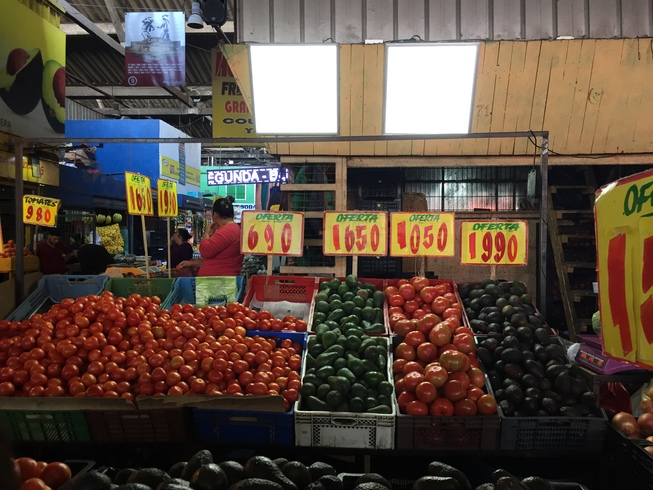precio: (592, 167, 653, 369), (461, 219, 534, 270), (322, 206, 387, 257), (241, 209, 306, 257), (389, 212, 455, 256), (21, 196, 61, 226), (129, 174, 153, 216), (158, 180, 179, 219)
